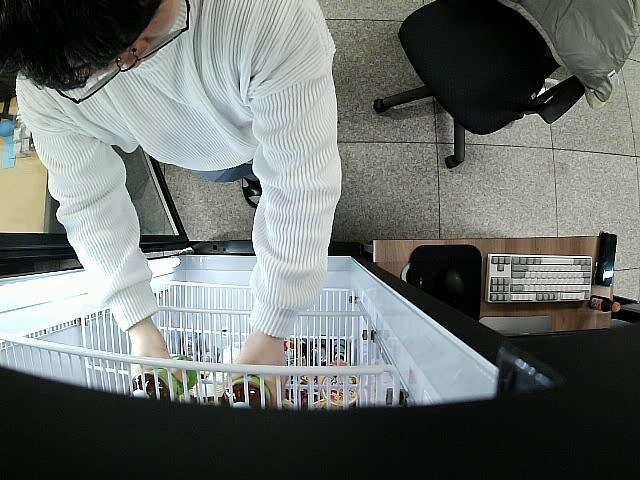19_17cha: (130, 356, 200, 400), (222, 376, 272, 414)
